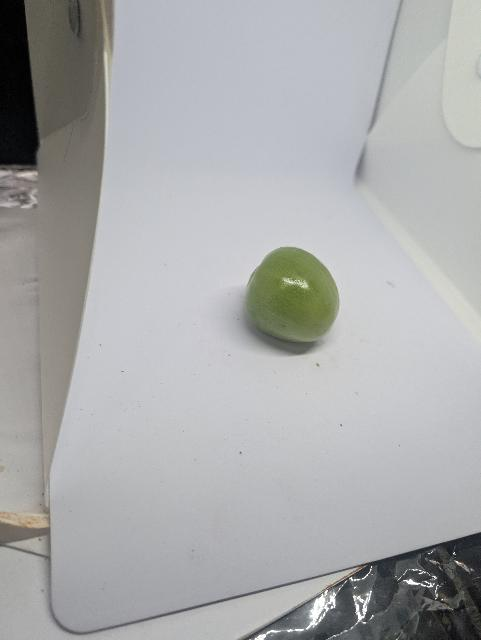green: (243, 245, 344, 345)
